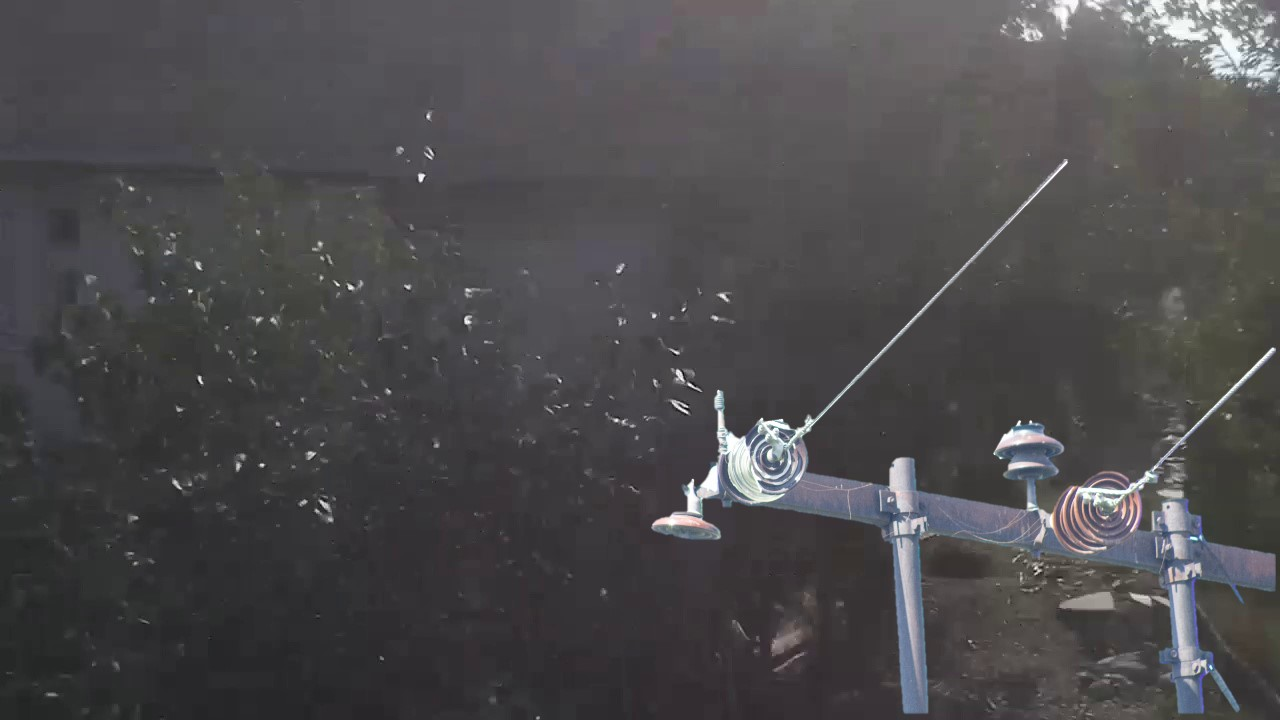defect_disc: (741, 412, 812, 499)
insulator_disc: (1066, 460, 1141, 546), (645, 504, 733, 545)
